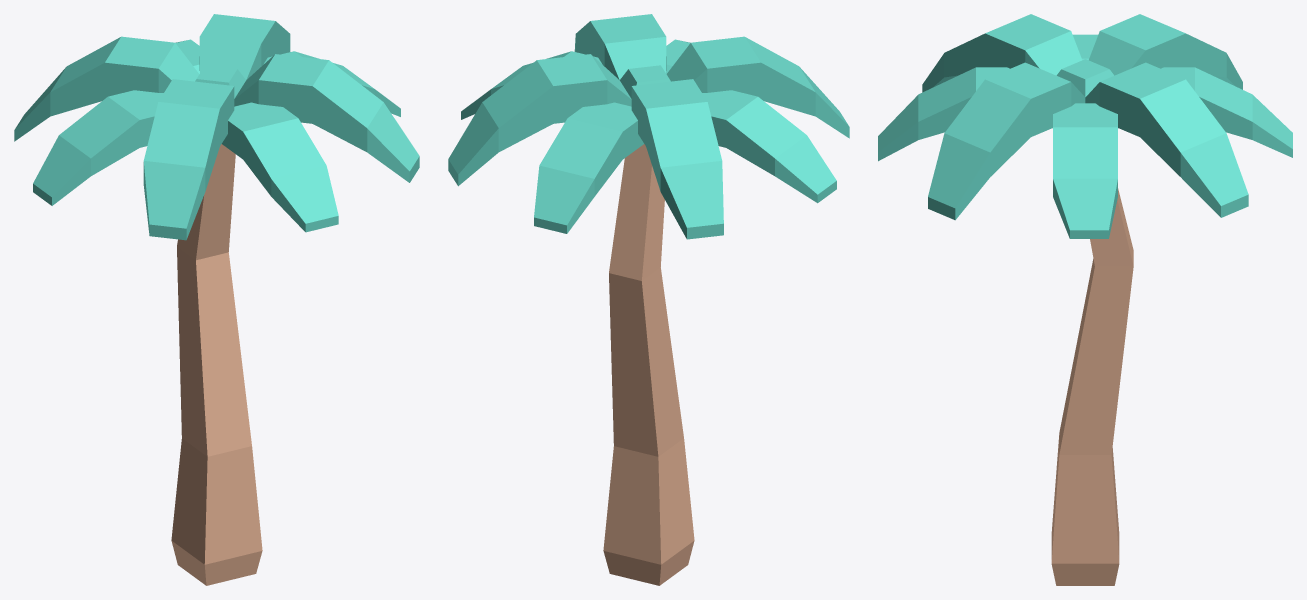
File: tree_palmDetailedTall.glb
3 renders of one model, left to right at view 1: azimuth 30°, elevation 25°; view 2: azimuth 150°, elevation 25°; view 3: azimuth 270°, elevation 25°, orthographic.
Parts seen in each view (by area): view 1: leafs, tree_palmDetailedTall, leafs.001; view 2: leafs, tree_palmDetailedTall, leafs.001; view 3: leafs, tree_palmDetailedTall, leafs.001.
Part boxes in pixels (x1,y1,x2,y2): leafs: (14,14,419,240); tree_palmDetailedTall: (171,144,262,585); leafs.001: (33,39,400,232); leafs: (448,14,849,239); tree_palmDetailedTall: (603,144,694,585); leafs.001: (461,39,836,233); leafs: (922,14,1248,220); tree_palmDetailedTall: (1051,188,1133,585); leafs.001: (878,34,1292,238).
Bounding box in the file's own units: 1.03 × 1.42 × 1.03.
